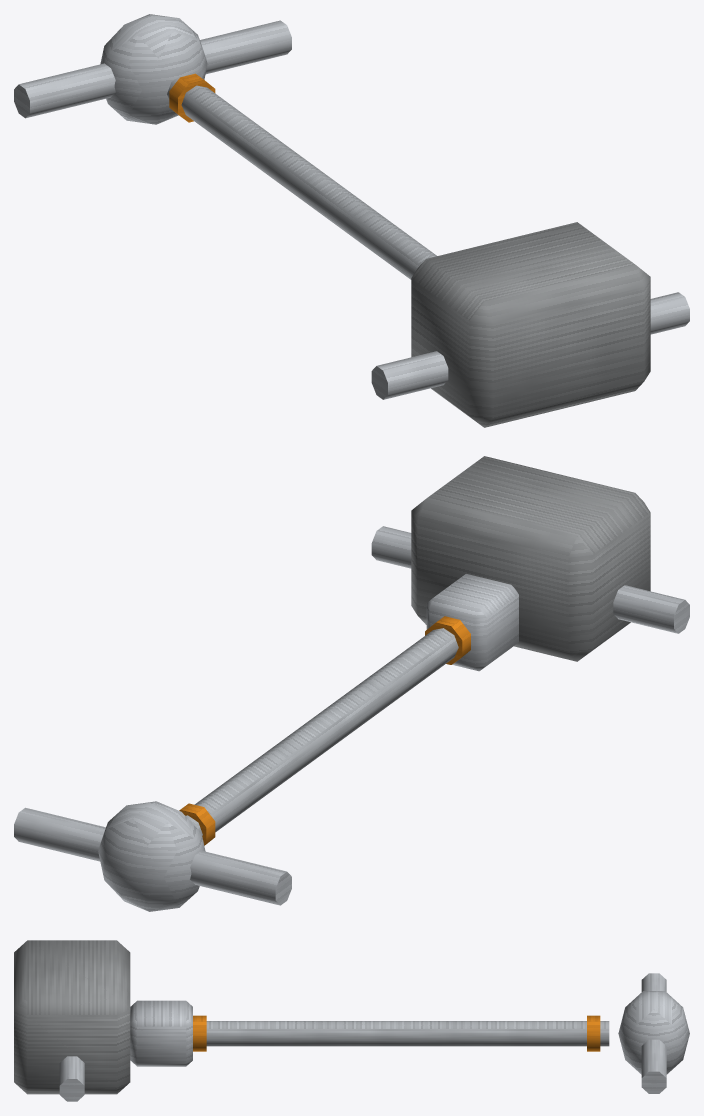
File: conversao_tracao_n3.glb
The picture shows the model from 3 angles, top to bottom: view 1: azimuth 30°, elevation 25°; view 2: azimuth 150°, elevation 25°; view 3: azimuth 270°, elevation 25°; orthographic projection. The views are drawn at different scales.
Parts seen in each view (by area): view 1: conversao_tracao_n3; view 2: conversao_tracao_n3; view 3: conversao_tracao_n3.
Part boxes in pixels (x1,y1,x2,y2): conversao_tracao_n3: (14, 14, 689, 427); conversao_tracao_n3: (14, 456, 689, 911); conversao_tracao_n3: (14, 940, 689, 1101).
Bounding box in the file's own units: 0.6 × 0.26 × 1.51.
2 materials, 2 textured.
